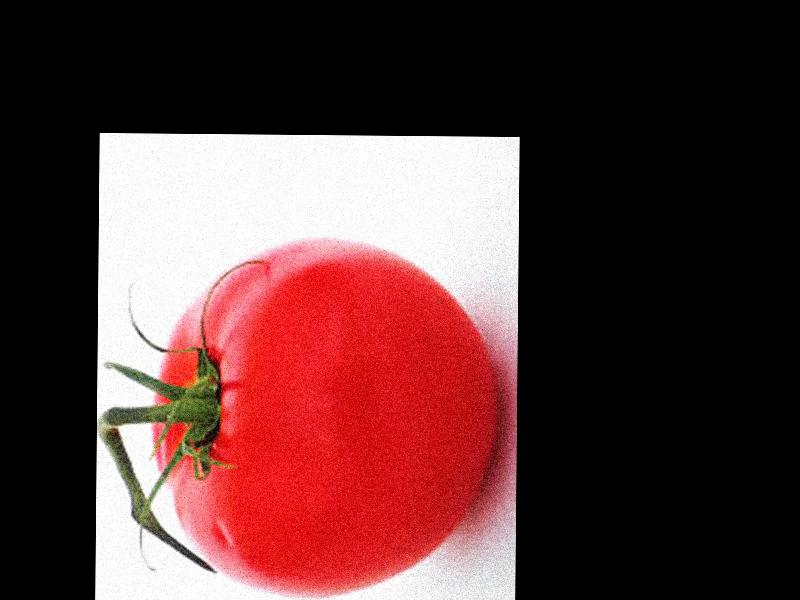Tomato: (152, 232, 501, 596)
